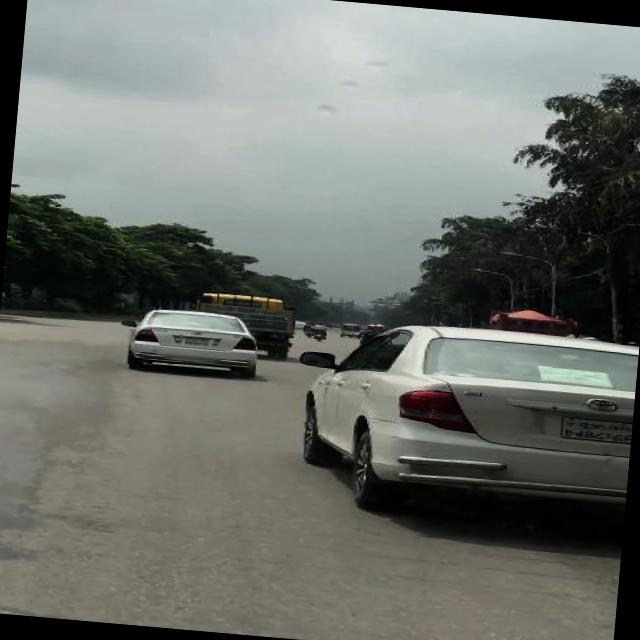car: (286, 312, 637, 533), (116, 302, 265, 380)
motorcycle: (338, 321, 364, 338), (313, 318, 329, 342), (301, 320, 312, 338)
truck: (195, 287, 298, 321)
